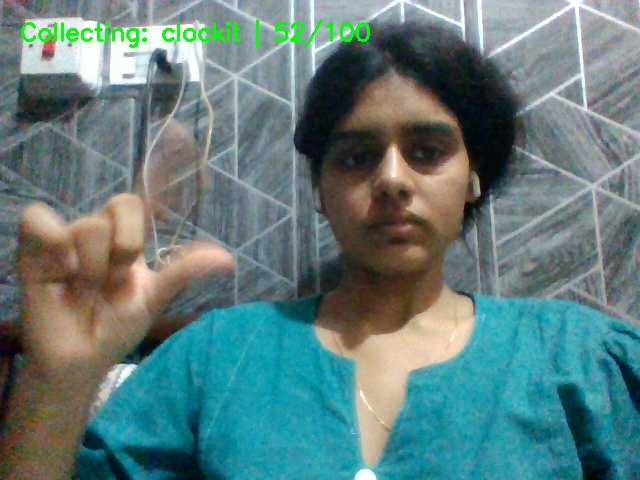clockit: (10, 133, 250, 326)
